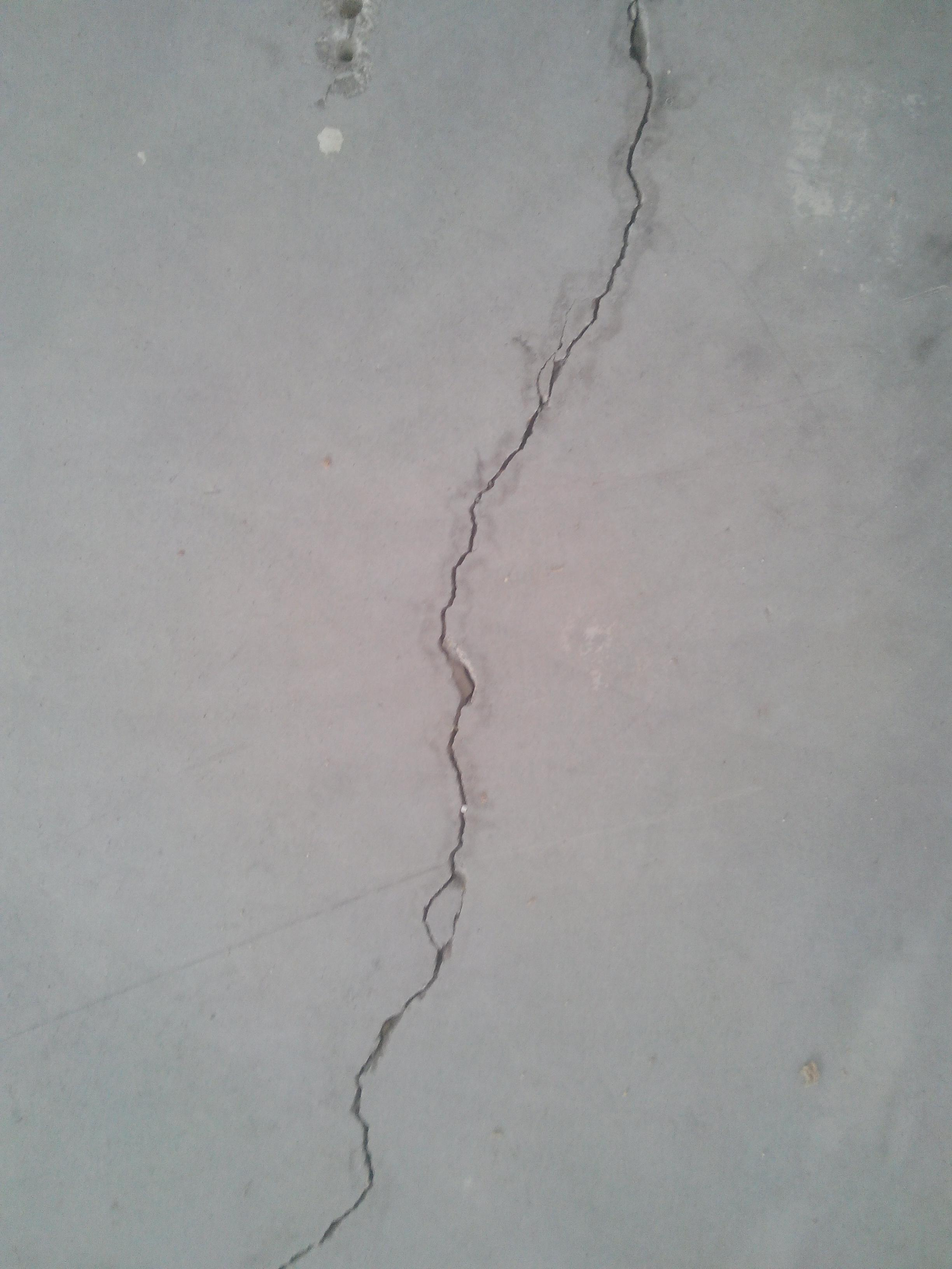Vertical Crack: (276, 1, 658, 1264)
